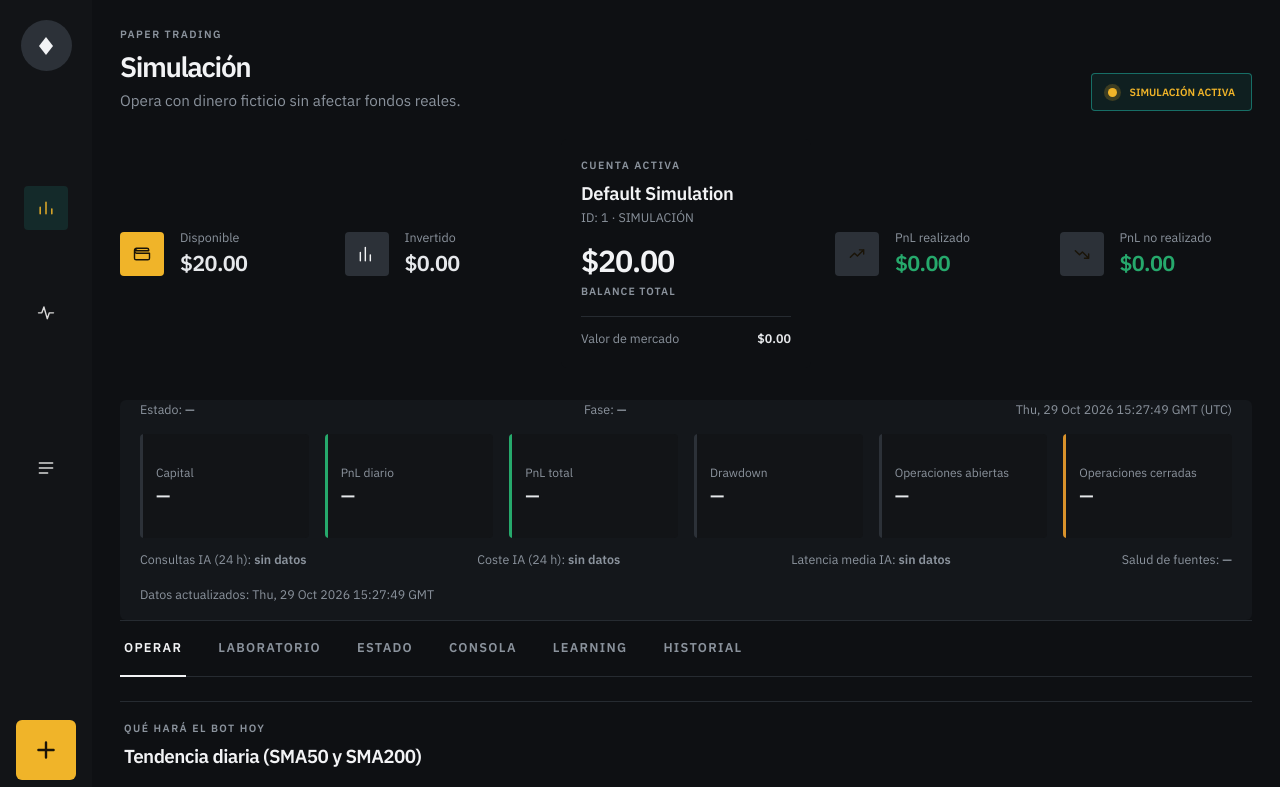
Simulation (NFR accesibilidad, T6) › las pestañas alternan el panel visible (RF-6)
The image size is (1280, 787).
Click the tab "Estado".
click(385, 649)  # box [353, 621, 417, 677]
(page scrolled)
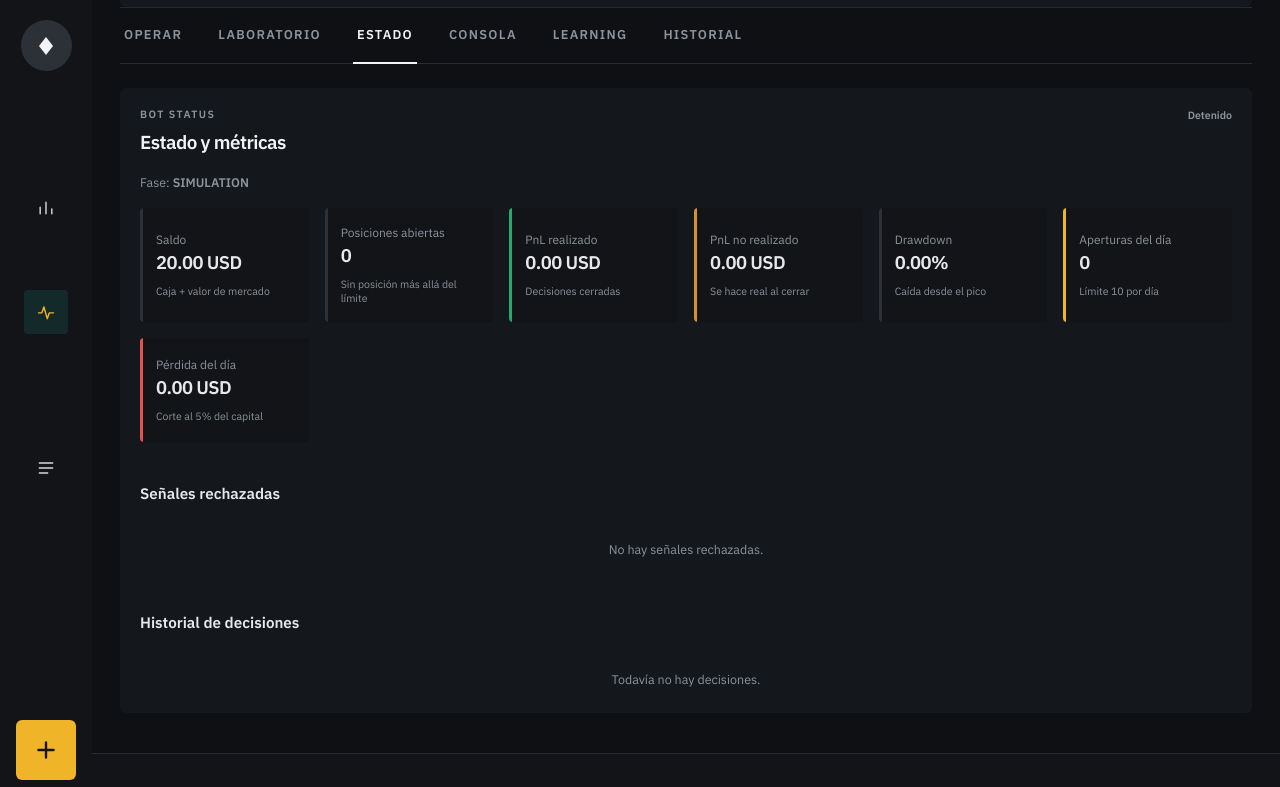
Check: the element with test id "metrics-panel" is shown
